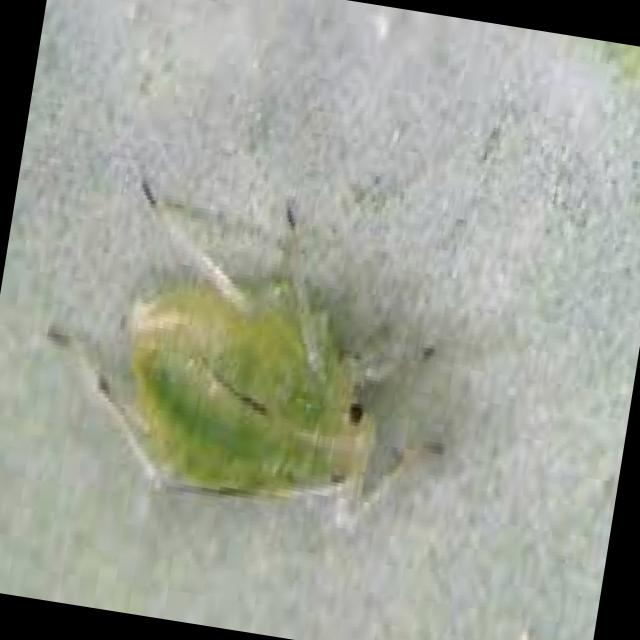Aphids: (12, 134, 503, 606)
